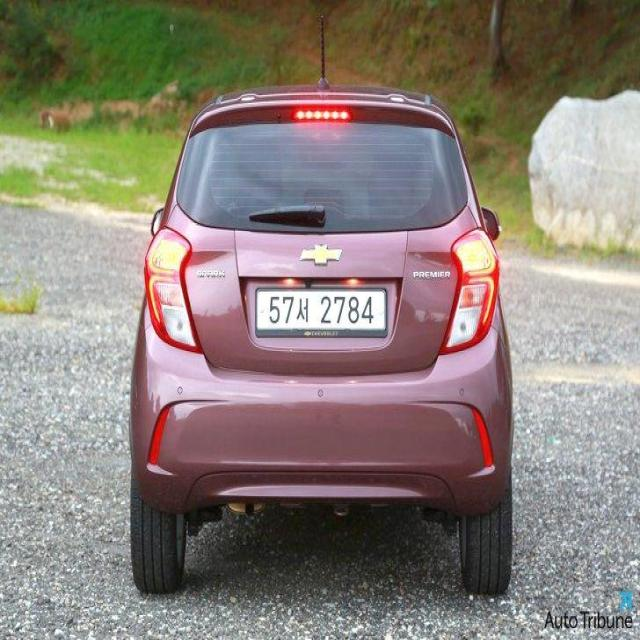car: (120, 60, 526, 616)
illegal_plate: (250, 286, 394, 341)
